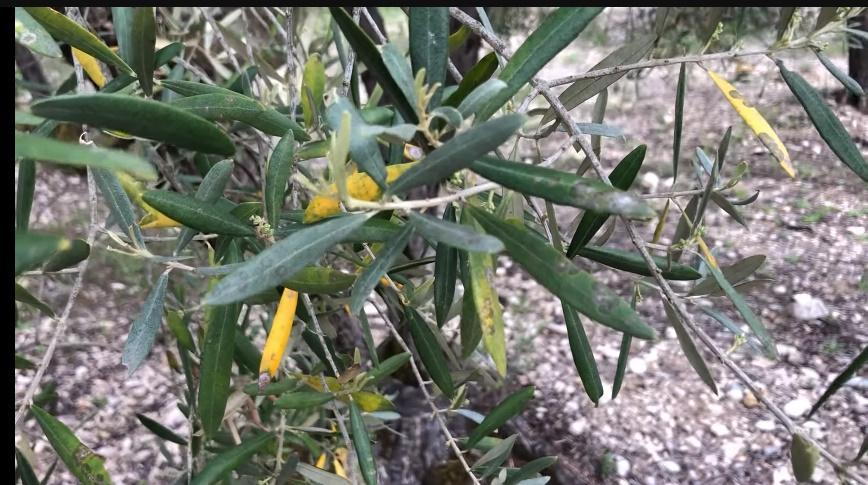OlivePeacockSpot: (468, 202, 660, 342), (202, 214, 368, 306), (473, 158, 654, 224), (706, 68, 796, 176), (302, 159, 423, 223), (27, 404, 118, 485), (464, 228, 512, 381), (258, 288, 302, 388), (170, 94, 268, 124)
